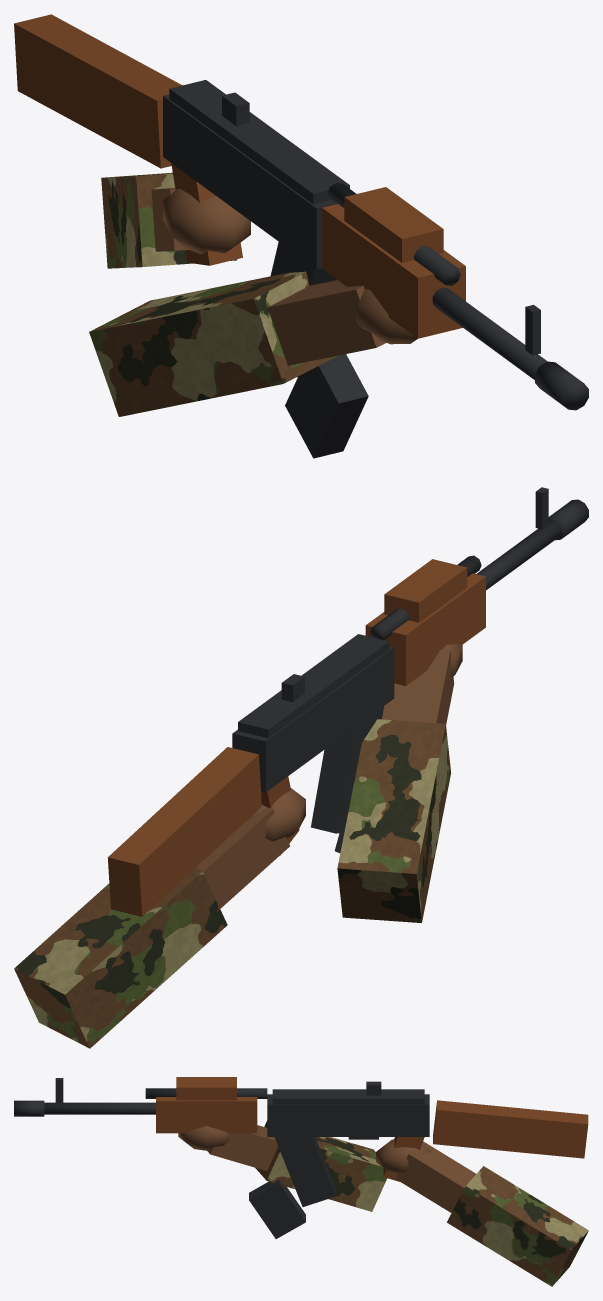
3 renders of one model, top to bottom at view 1: azimuth 30°, elevation 25°; view 2: azimuth 150°, elevation 25°; view 3: azimuth 270°, elevation 25°, orthographic. The views are drawn at different scales.
Visible parts, largest first — view 1: Weapon; view 2: Weapon; view 3: Weapon.
Boxes of the visible parts, box(x1,y1,x2,y2) form: Weapon: box(14, 14, 588, 458); Weapon: box(14, 487, 588, 1048); Weapon: box(14, 1077, 588, 1286).
Size of the model in its own units: 0.3538 by 0.377 by 1.13.
